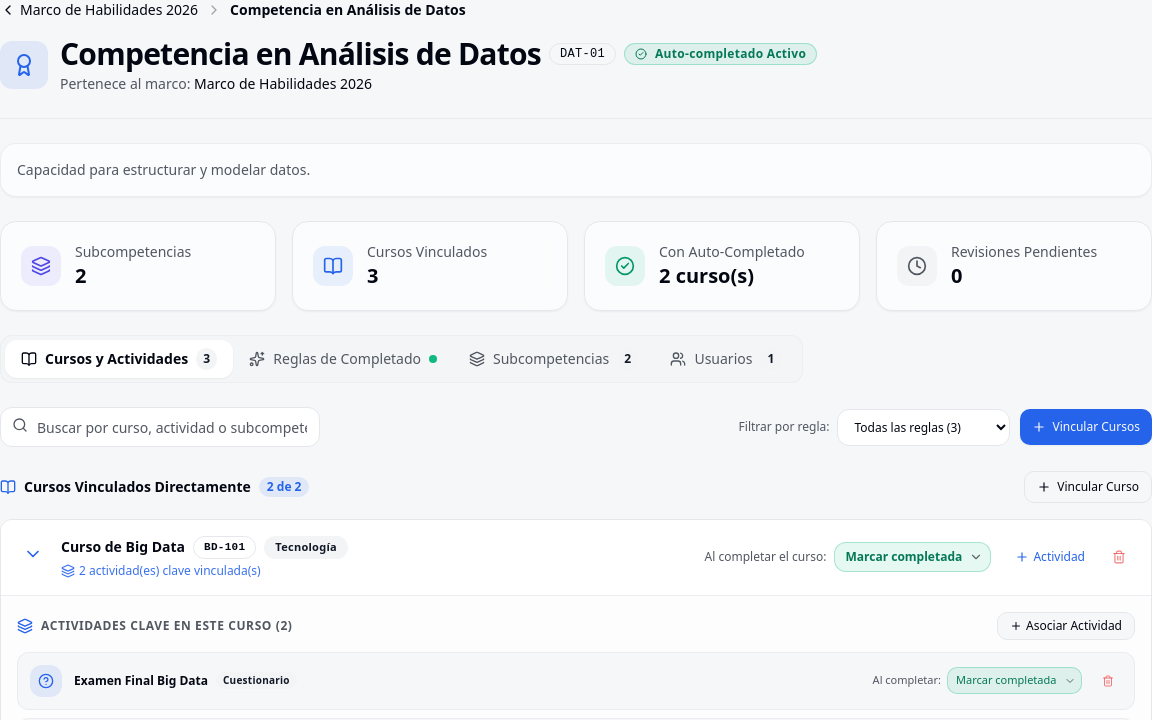
Scenario: CompetencyDetailView › opens competency pending reviews modal when clicking header button
The image size is (1152, 720).
expect the heading "Competencia en Análisis de Datos" is shown: met, box [60,36,541,72]
Click the button titled "Ver revisiones pendientes": click(917, 266) [876,221,1151,311]
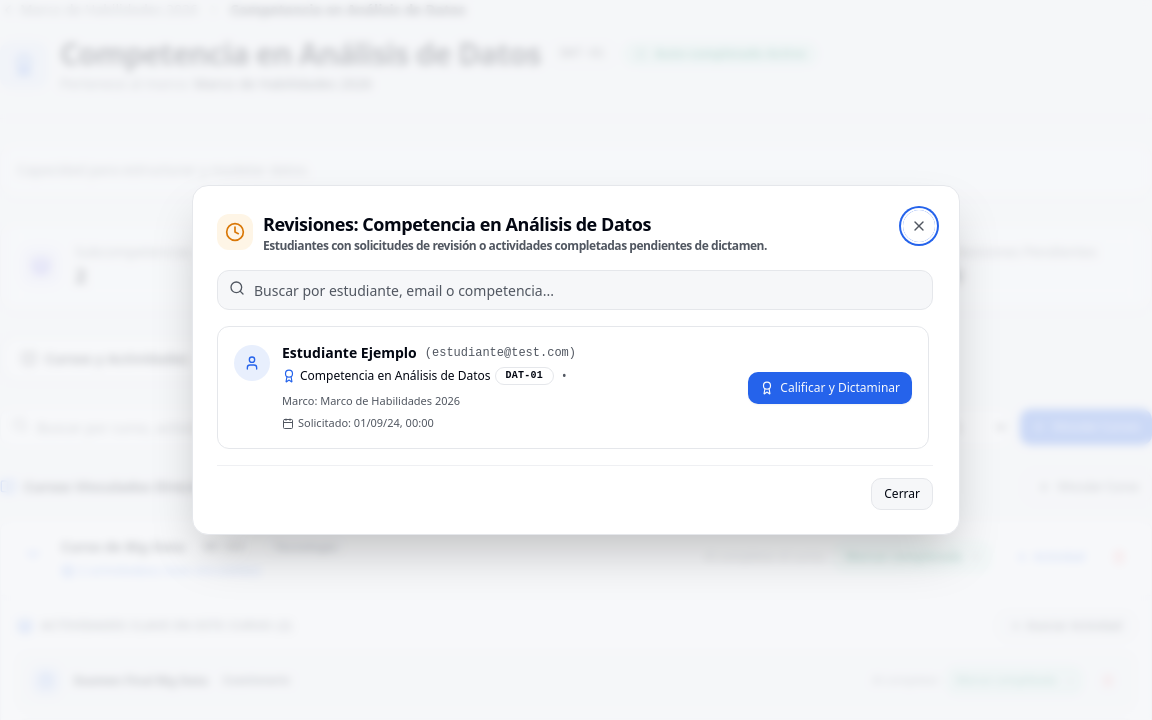
expect the text "Estudiante Ejemplo" is shown: met, box [282,343,417,363]
expect the text "(estudiante@test.com)" is shown: met, box [425,345,576,361]
